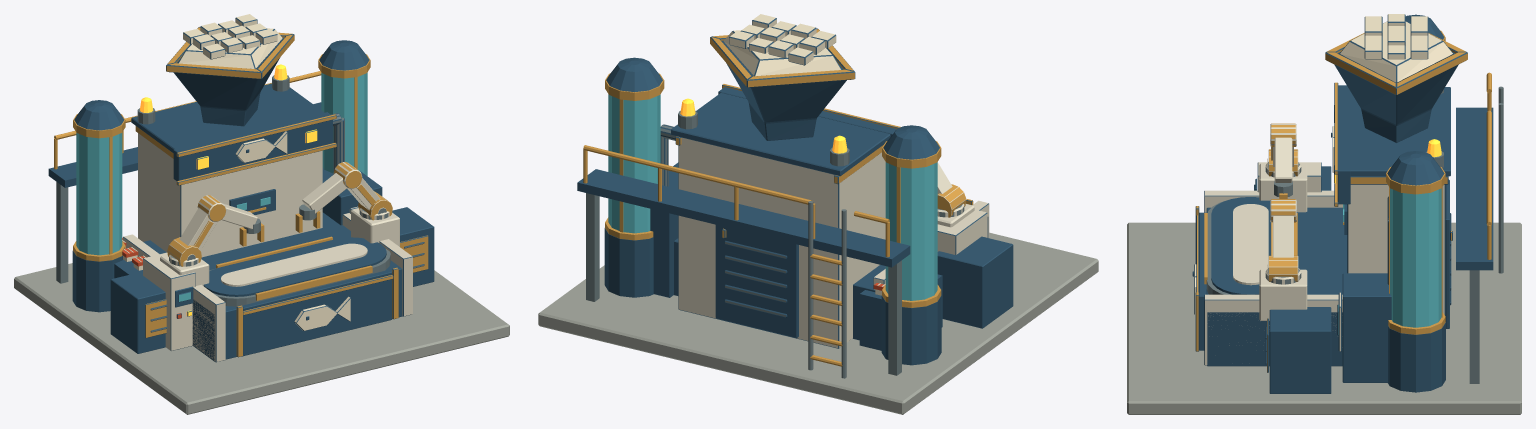
The model's file is auto-sushi-lv3.glb.
3 renders of one model, left to right at view 1: azimuth 30°, elevation 25°; view 2: azimuth 150°, elevation 25°; view 3: azimuth 270°, elevation 25°, orthographic. The views are drawn at different scales.
Parts seen in each view (by area): view 1: Auto_L3, Robot_L_Upper.003, Robot_R_Forearm.002, Robot_L_Forearm.003, Robot_R_Upper.002, Robot_R_Gripper.002; view 2: Auto_L3, Robot_L_Upper.003; view 3: Auto_L3, Robot_R_Upper.002, Robot_L_Forearm.003, Robot_R_Forearm.002, Robot_L_Upper.003.
Boxes of the visible parts, <box> form: Auto_L3: <box>14,14,509,414</box>; Robot_L_Upper.003: <box>167,208,217,266</box>; Robot_R_Forearm.002: <box>302,162,362,213</box>; Robot_L_Forearm.003: <box>197,195,257,229</box>; Robot_R_Upper.002: <box>347,178,392,220</box>; Robot_R_Gripper.002: <box>295,204,320,232</box>; Auto_L3: <box>538,14,1098,414</box>; Robot_L_Upper.003: <box>937,162,966,217</box>; Auto_L3: <box>1127,14,1521,414</box>; Robot_R_Upper.002: <box>1267,216,1298,281</box>; Robot_L_Forearm.003: <box>1270,123,1296,182</box>; Robot_R_Forearm.002: <box>1270,199,1296,222</box>; Robot_L_Upper.003: <box>1267,147,1298,176</box>.
Size of the model in its own units: 5.5 by 4.18 by 5.1.
